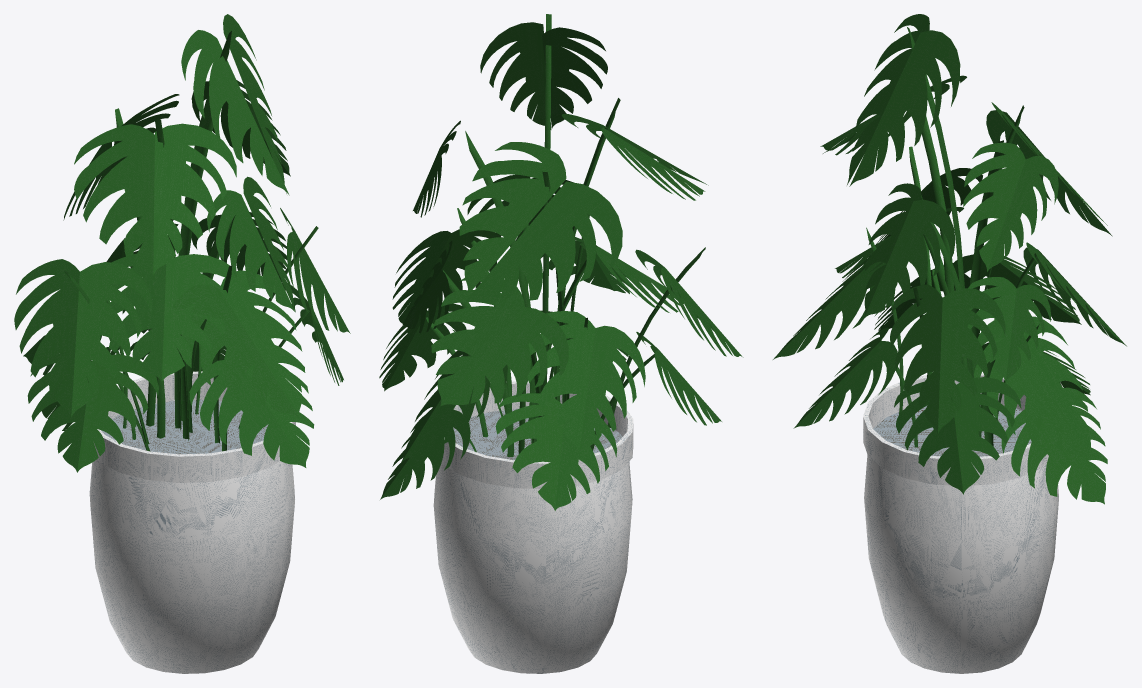
3 renders of one model, left to right at view 1: azimuth 30°, elevation 25°; view 2: azimuth 150°, elevation 25°; view 3: azimuth 270°, elevation 25°, orthographic. The views are drawn at different scales.
Visible parts, largest first — view 1: Mesh (×31); view 2: Mesh (×32); view 3: Mesh (×33).
Part boxes in pixels (x1,y1,x2,y2): Mesh (×31): (14,14,350,673); Mesh (×32): (379,14,743,673); Mesh (×33): (773,14,1126,673).
Size of the model in its own units: 0.887 by 1.61 by 0.8316.
